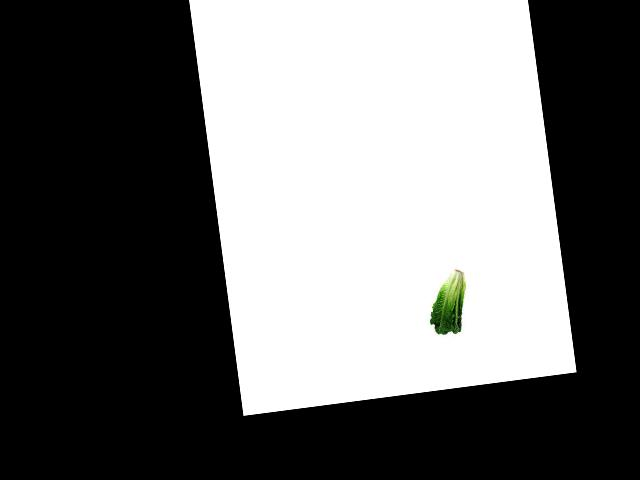lettuce: (424, 264, 474, 338)
